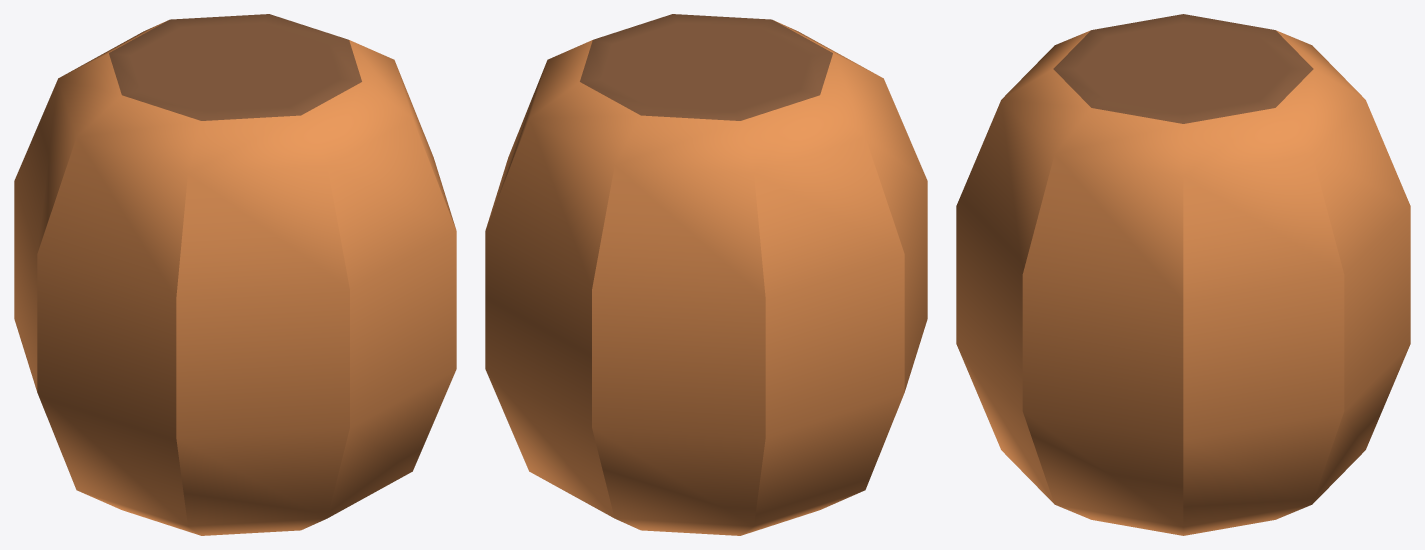
Rendered from Barrel-2.fbx.
3 views of the same model, side by side, from view 1: azimuth 30°, elevation 25°; view 2: azimuth 150°, elevation 25°; view 3: azimuth 270°, elevation 25° (orthographic).
Visible parts, largest first — view 1: Cylinder.222; view 2: Cylinder.222; view 3: Cylinder.222.
Boxes of the visible parts, left/top/right/bottom form: Cylinder.222: left=14, top=14, right=456, bottom=535; Cylinder.222: left=485, top=14, right=927, bottom=535; Cylinder.222: left=956, top=14, right=1410, bottom=535.
Bounding box in the file's own units: 21.8 × 21.8 × 21.8.
